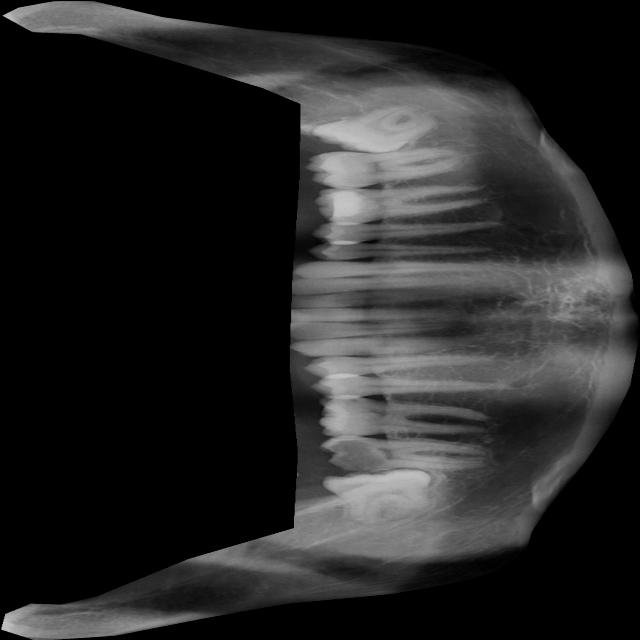mandibula: (1, 0, 640, 640)
